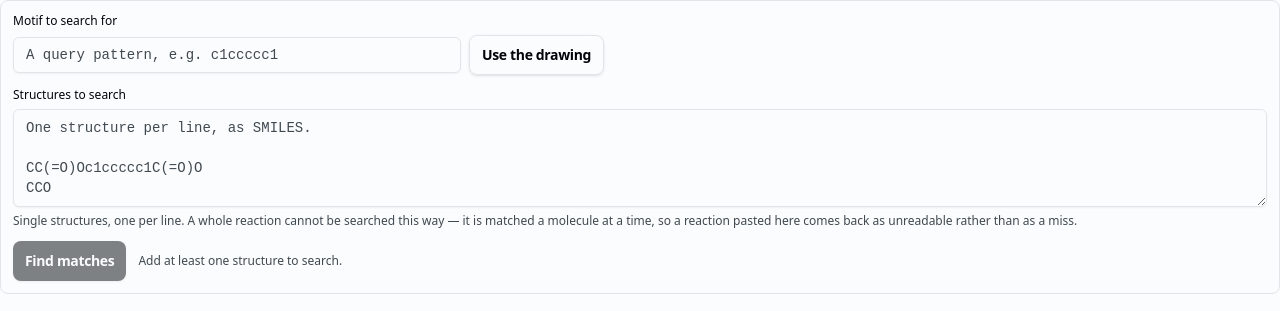
it: SubstructureQueryPanel › takes the query pattern off the canvas when one is offered
Click the button "Use the drawing". click: point(537, 55)
box: [469,35,604,75]
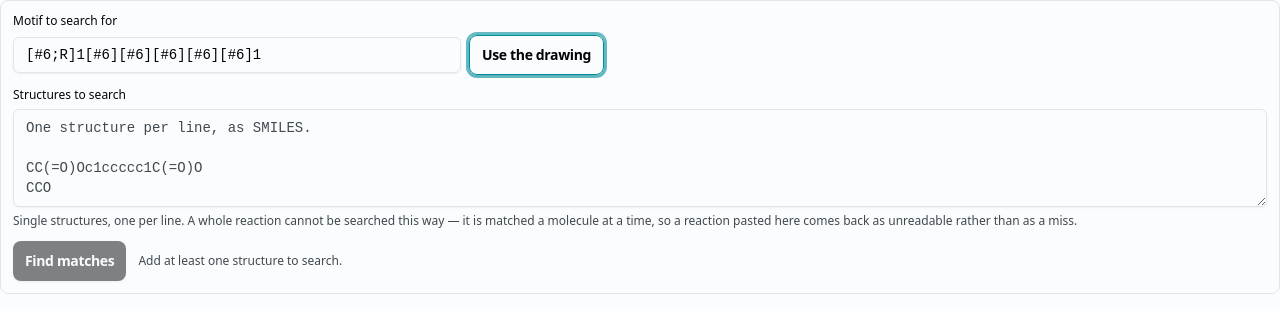
Check: the field labelled "Motif to search for" holds "[#6;R]1[#6][#6][#6][#6][#6]1", box [13,37,461,73]
